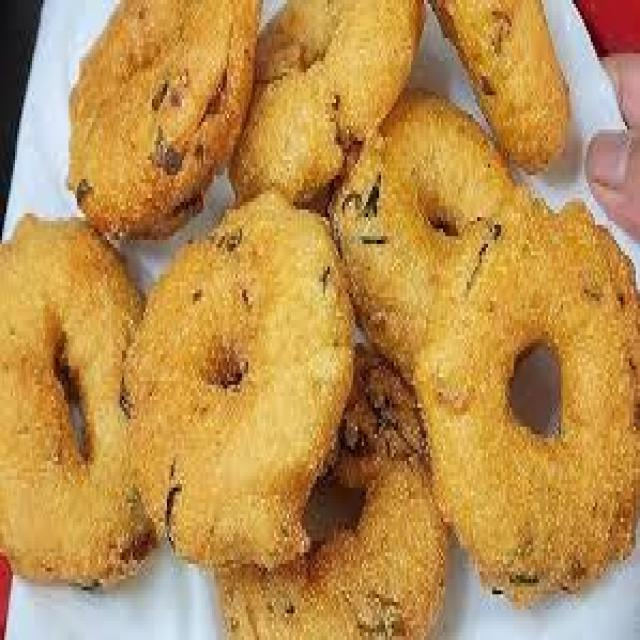MEDU VADA: (415, 206, 638, 598), (122, 190, 353, 564), (220, 347, 445, 636), (0, 217, 148, 579), (334, 91, 516, 373), (68, 0, 259, 236)
